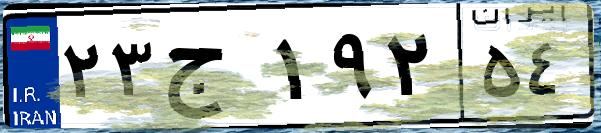1: (270, 28, 330, 110)
2: (385, 28, 445, 110), (57, 26, 110, 100)
3: (110, 28, 158, 98)
4: (525, 38, 570, 115)
5: (475, 38, 525, 113)
9: (330, 28, 385, 110)
ج: (158, 20, 270, 120)
